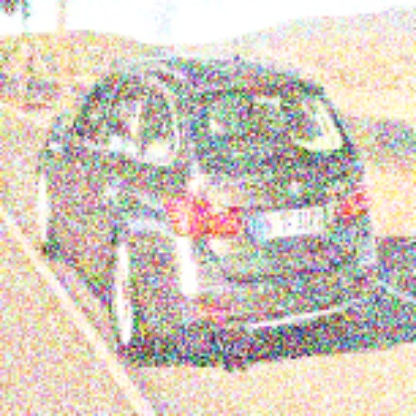Vehicle: (33, 50, 381, 373)
